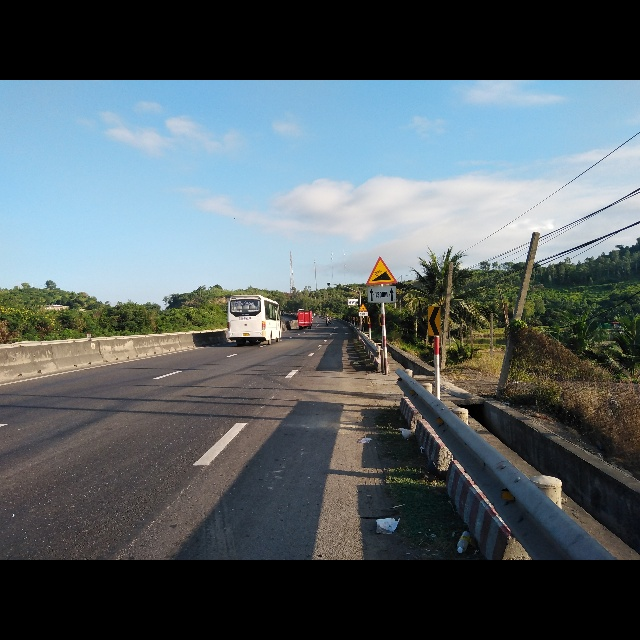Dốc lên nguy hiểm: (366, 255, 398, 285)
